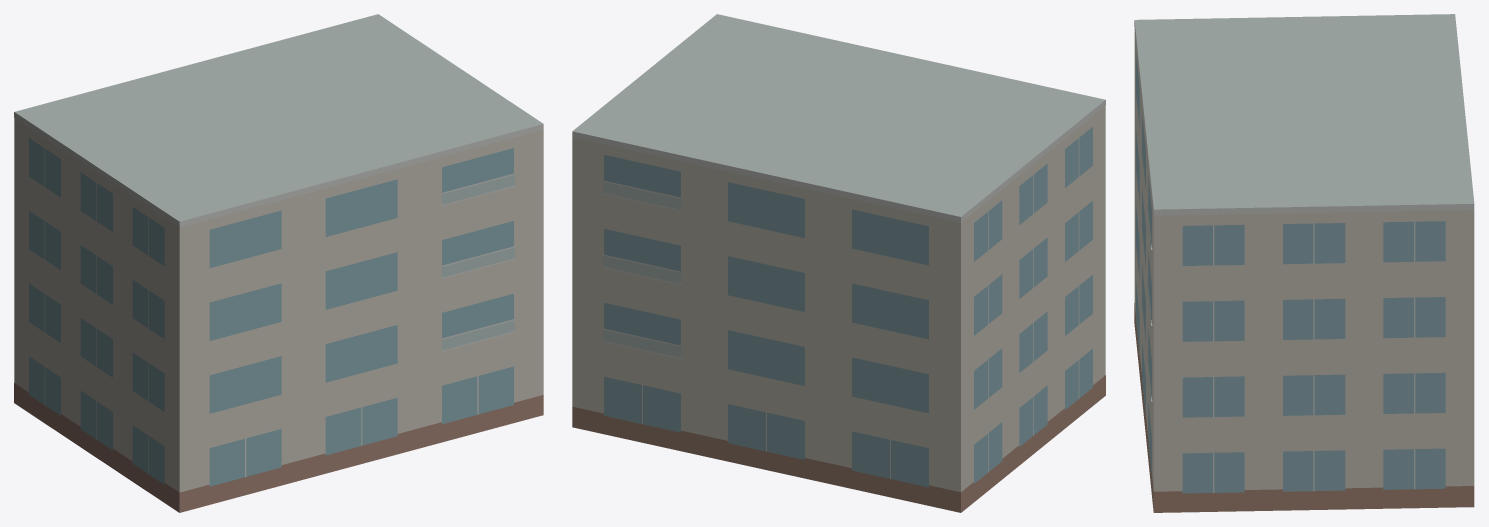
File: residential-d692ee7a-95d6-434c-9c82-66e845065fca.glb
3 renders of one model, left to right at view 1: azimuth 30°, elevation 25°; view 2: azimuth 150°, elevation 25°; view 3: azimuth 270°, elevation 25°, orthographic. The views are drawn at different scales.
Visible parts, largest first — view 1: residential-d692ee7a-95d6-434c-9c82-66e845065fca.tmp; view 2: residential-d692ee7a-95d6-434c-9c82-66e845065fca.tmp; view 3: residential-d692ee7a-95d6-434c-9c82-66e845065fca.tmp.
Part boxes in pixels (bbox=[...]): residential-d692ee7a-95d6-434c-9c82-66e845065fca.tmp: bbox=[14, 14, 543, 512]; residential-d692ee7a-95d6-434c-9c82-66e845065fca.tmp: bbox=[572, 14, 1105, 512]; residential-d692ee7a-95d6-434c-9c82-66e845065fca.tmp: bbox=[1134, 14, 1474, 512].
Bounding box in the file's own units: 16.89 × 12.2 × 12.4.
